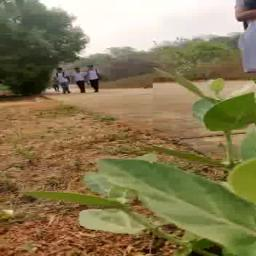Calotropis: (153, 77, 255, 249), (79, 156, 150, 230)
